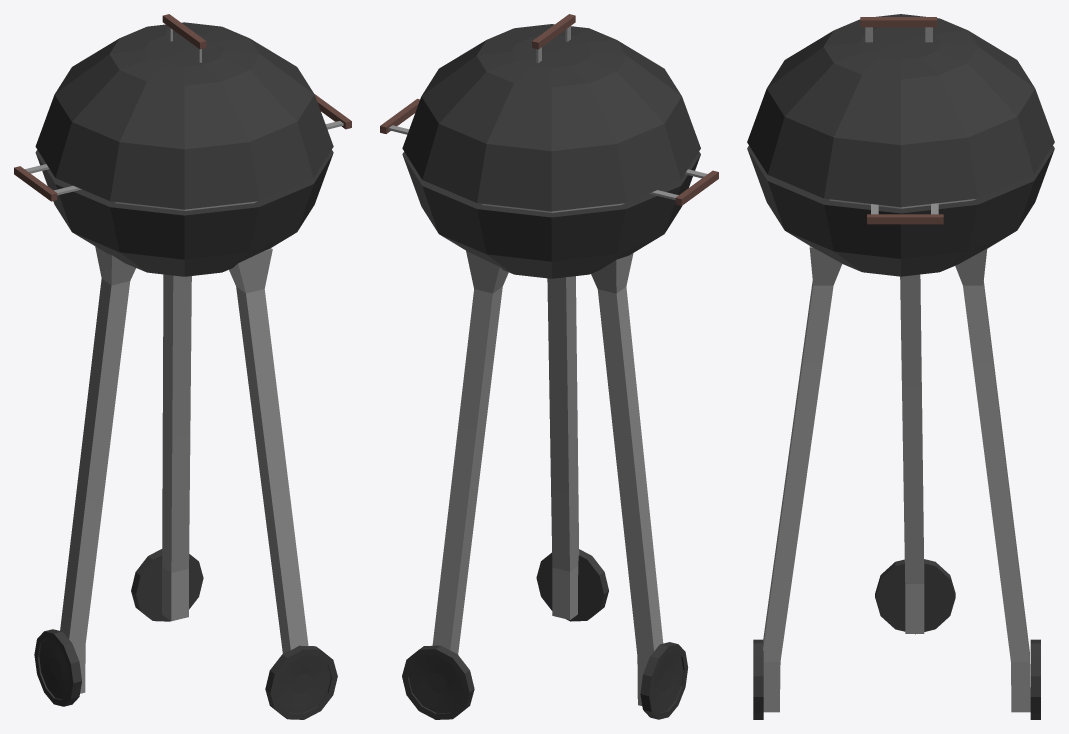
Rendered from Garden Barbecue.glb.
3 renders of one model, left to right at view 1: azimuth 30°, elevation 25°; view 2: azimuth 150°, elevation 25°; view 3: azimuth 270°, elevation 25°, orthographic. The views are drawn at different scales.
Parts seen in each view (by area): view 1: Barbecue; view 2: Barbecue; view 3: Barbecue.
Part boxes in pixels (x1,y1,x2,y2): Barbecue: (14, 14, 351, 719); Barbecue: (380, 14, 718, 719); Barbecue: (747, 14, 1054, 719).
Bounding box in the file's own units: 0.6097 × 1.26 × 0.5233.
1 material, 1 textured.
